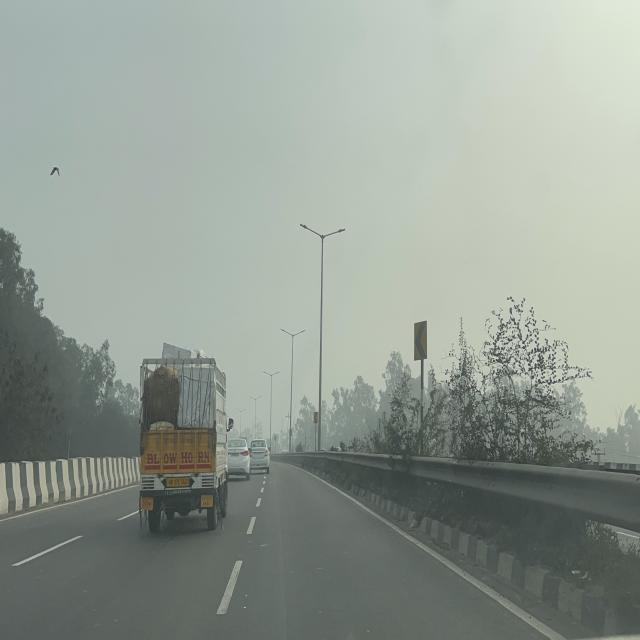TURN_LEFT: (414, 320, 427, 361), (314, 412, 318, 423), (290, 429, 292, 436)
